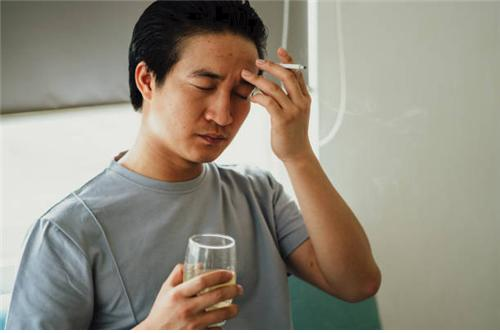alcohol: (185, 235, 235, 327)
cigarette: (273, 62, 307, 73)
